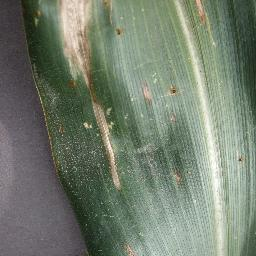Gray_Leaf_Spot: (60, 0, 112, 115), (21, 63, 62, 148), (94, 117, 123, 181), (184, 0, 219, 46), (135, 71, 159, 109), (113, 2, 128, 46), (164, 76, 184, 103), (28, 0, 49, 24), (165, 94, 181, 124), (122, 238, 148, 256), (79, 112, 99, 132), (231, 151, 251, 169), (174, 166, 189, 187)
